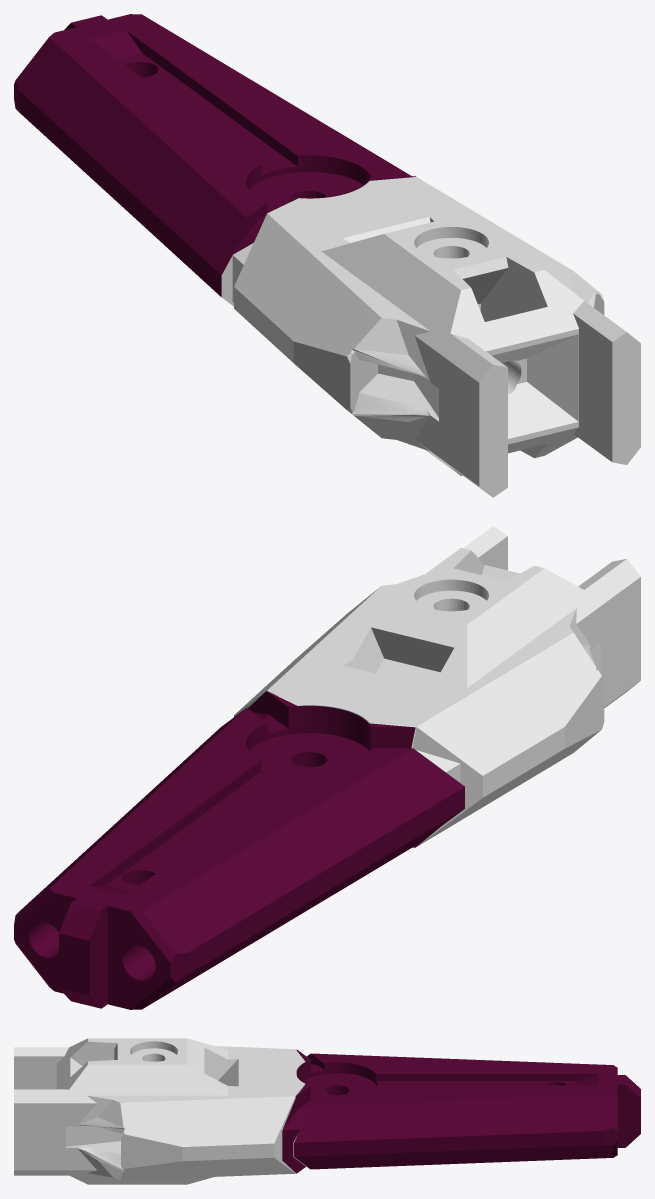
3 views of the same model, one above another, from view 1: azimuth 30°, elevation 25°; view 2: azimuth 150°, elevation 25°; view 3: azimuth 270°, elevation 25° (orthographic). The views are drawn at different scales.
Parts seen in each view (by area): view 1: ReZELbinder1.001, ReZELbinder1.00; view 2: ReZELbinder1.00, ReZELbinder1.001; view 3: ReZELbinder1.001, ReZELbinder1.00.
Boxes of the visible parts, left/top/right/bottom form: ReZELbinder1.001: left=221, top=177, right=640, bottom=497; ReZELbinder1.00: left=14, top=14, right=415, bottom=296; ReZELbinder1.00: left=14, top=691, right=464, bottom=1009; ReZELbinder1.001: left=234, top=526, right=640, bottom=846; ReZELbinder1.001: left=14, top=1038, right=309, bottom=1184; ReZELbinder1.00: left=282, top=1049, right=640, bottom=1173.
Bounding box in the file's own units: 2598 × 1701 × 8062.
